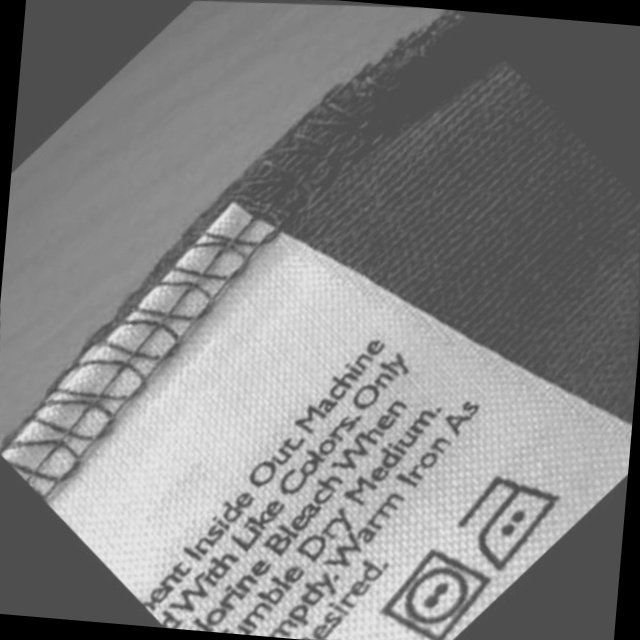iron_medium: (453, 467, 573, 576)
tumble_dry_medium: (377, 543, 500, 640)
